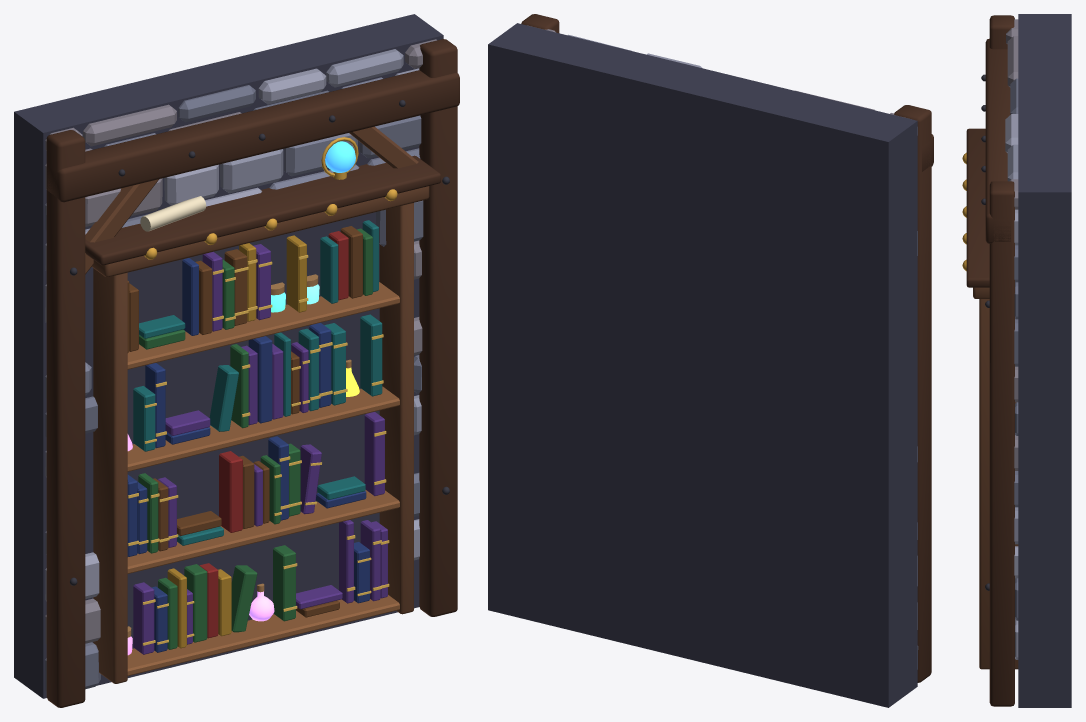
Rendered from magic_wall_shelf.glb.
3 renders of one model, left to right at view 1: azimuth 30°, elevation 25°; view 2: azimuth 150°, elevation 25°; view 3: azimuth 270°, elevation 25°, orthographic. The views are drawn at different scales.
Visible parts, largest first — view 1: magic_wall_shelf; view 2: magic_wall_shelf; view 3: magic_wall_shelf.
Part boxes in pixels (x1=…): magic_wall_shelf: x1=14, y1=14, x2=459, y2=707; magic_wall_shelf: x1=488, y1=14, x2=933, y2=707; magic_wall_shelf: x1=962, y1=14, x2=1071, y2=707.
Bounding box in the file's own units: 2 × 2.7 × 0.518.
